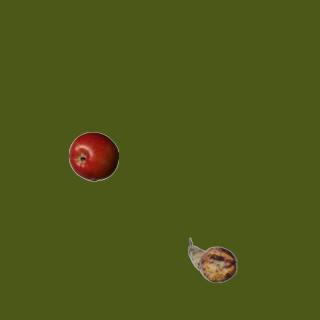Apple Braeburn: (68, 131, 118, 181)
Pear Abate: (187, 235, 237, 285)
